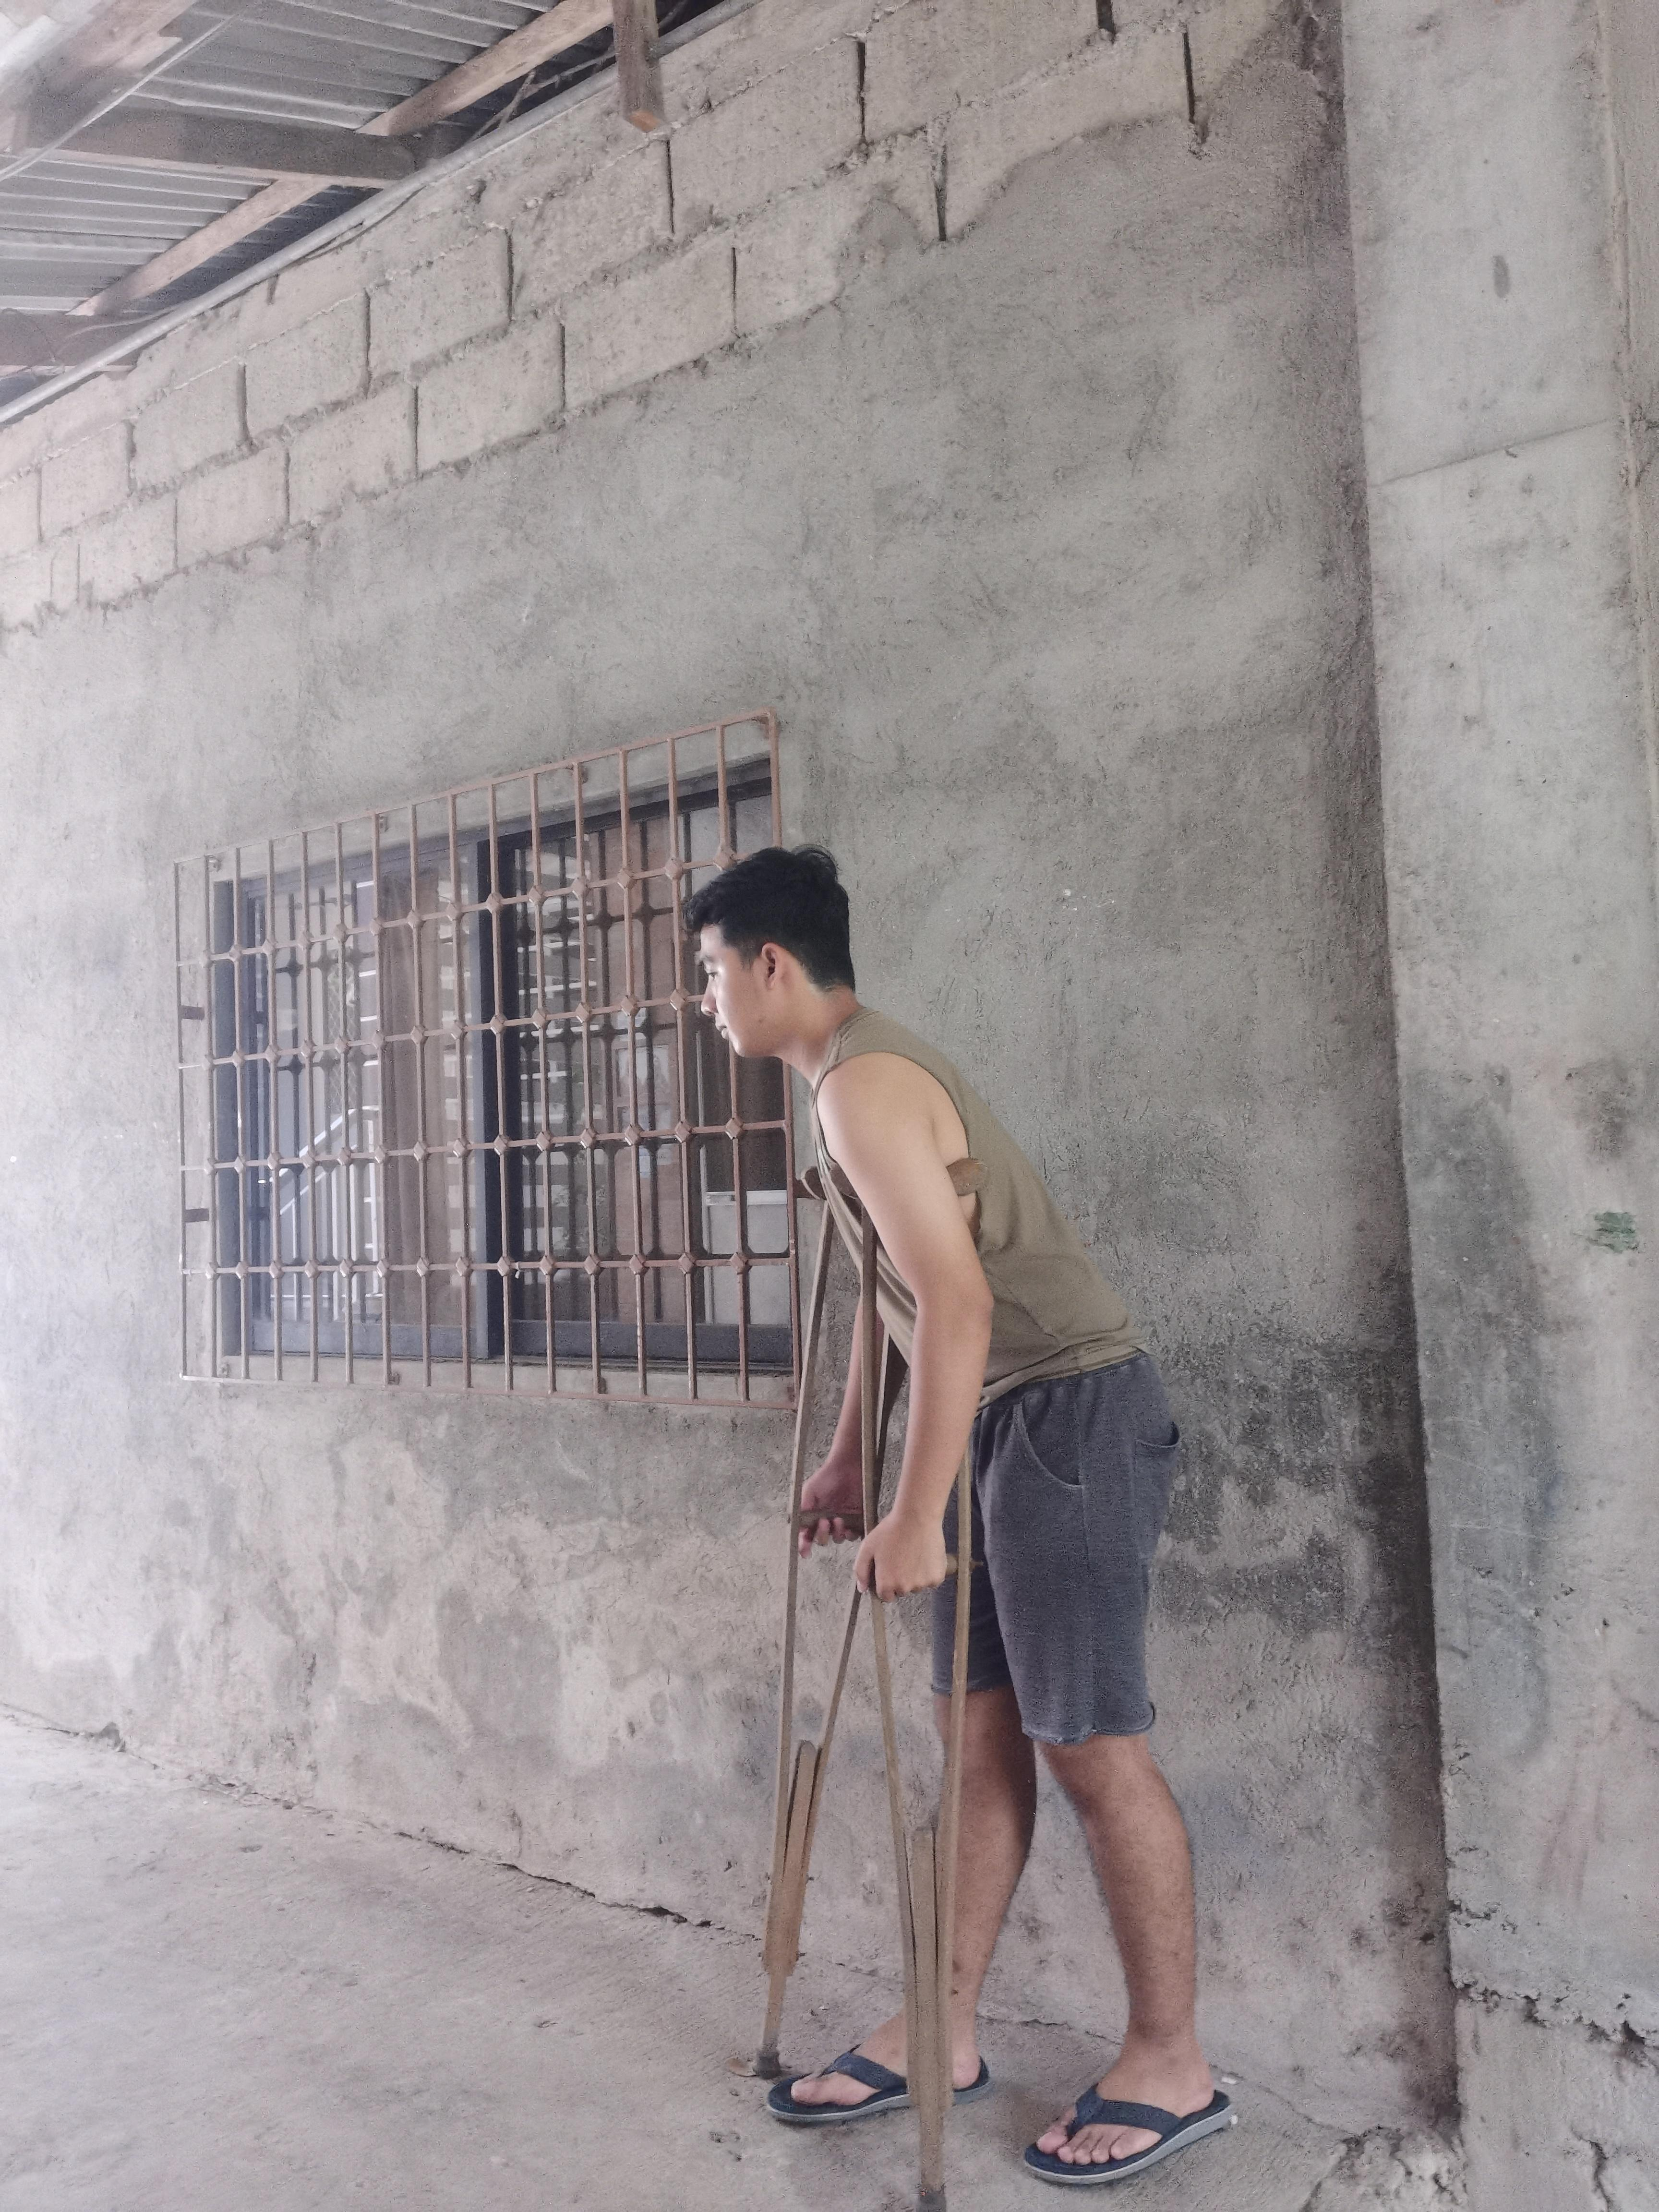crutches: (678, 831, 1251, 2212)
